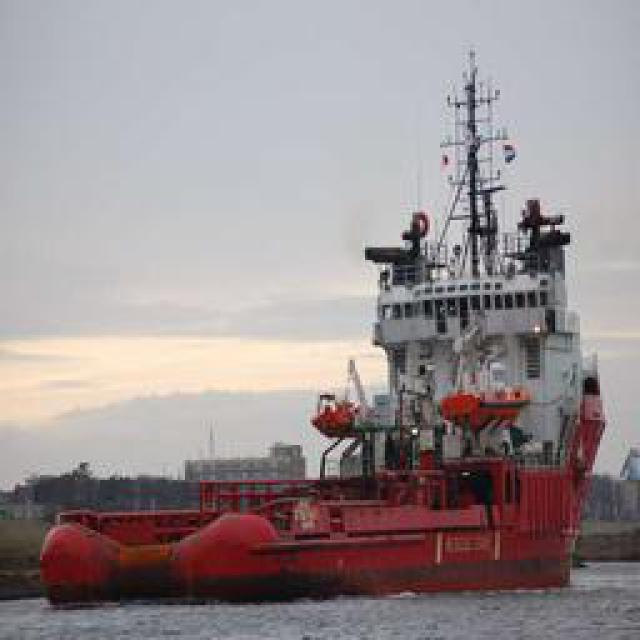Ship: (41, 65, 617, 614)
